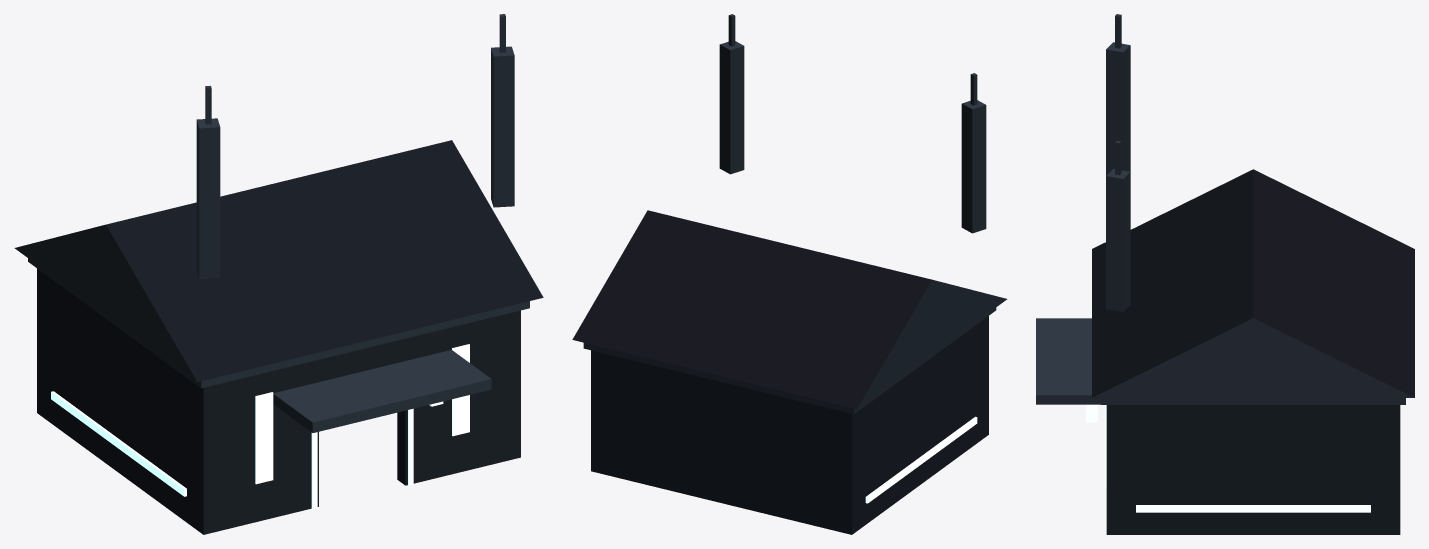
File: shaddai_dist_darkforest_home_b_v01.glb
3 views of the same model, side by side, from view 1: azimuth 30°, elevation 25°; view 2: azimuth 150°, elevation 25°; view 3: azimuth 270°, elevation 25° (orthographic). The views are drawn at different scales.
Visible parts, largest first — view 1: shaddai_dist_darkforest_home_b; view 2: shaddai_dist_darkforest_home_b; view 3: shaddai_dist_darkforest_home_b.
Boxes of the visible parts, x1=… form: shaddai_dist_darkforest_home_b: x1=14, y1=14, x2=543, y2=534; shaddai_dist_darkforest_home_b: x1=572, y1=14, x2=1007, y2=534; shaddai_dist_darkforest_home_b: x1=1036, y1=14, x2=1414, y2=534.
Bounding box in the file's own units: 12 × 14.58 × 12.9.
